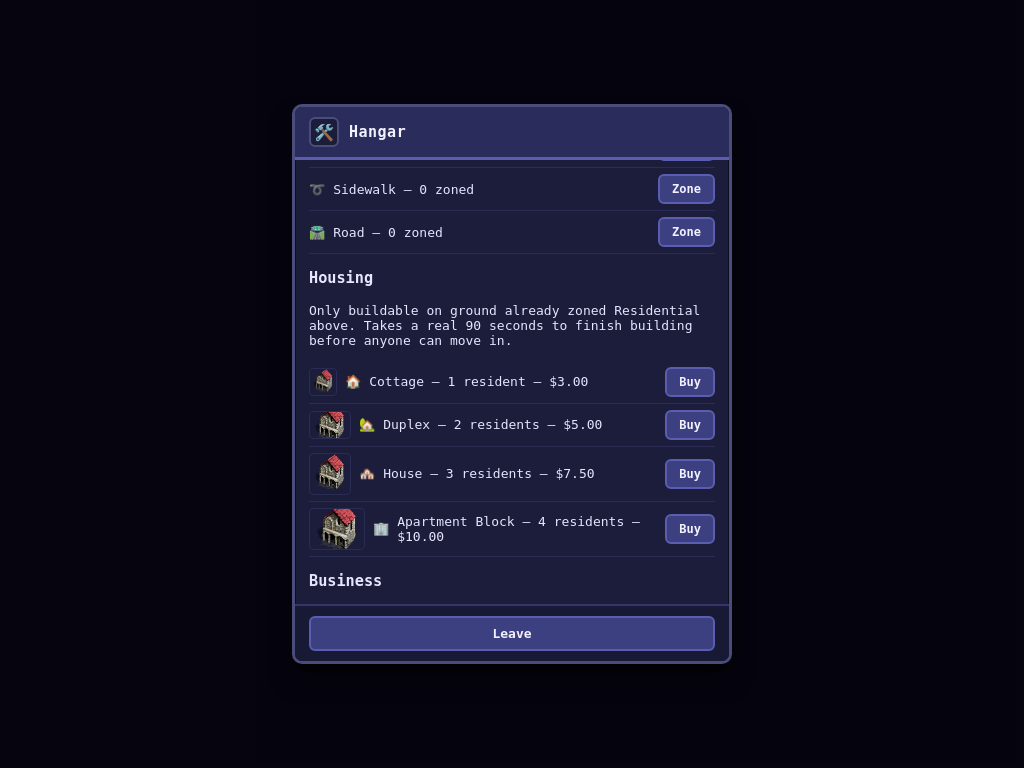
HangarOverlay › Housing (housing.md) › buying a second home type re-arms rather than queuing, refunding the first (2026-09-15 audit fix)
The width and height of the screenshot is (1024, 768).
(page scrolled)
What coordinates should you click on to do the following:
click the button "Buy" in the row of "Cottage"
I would click on:
 (690, 382)
Its box is 665,367 -> 715,397.
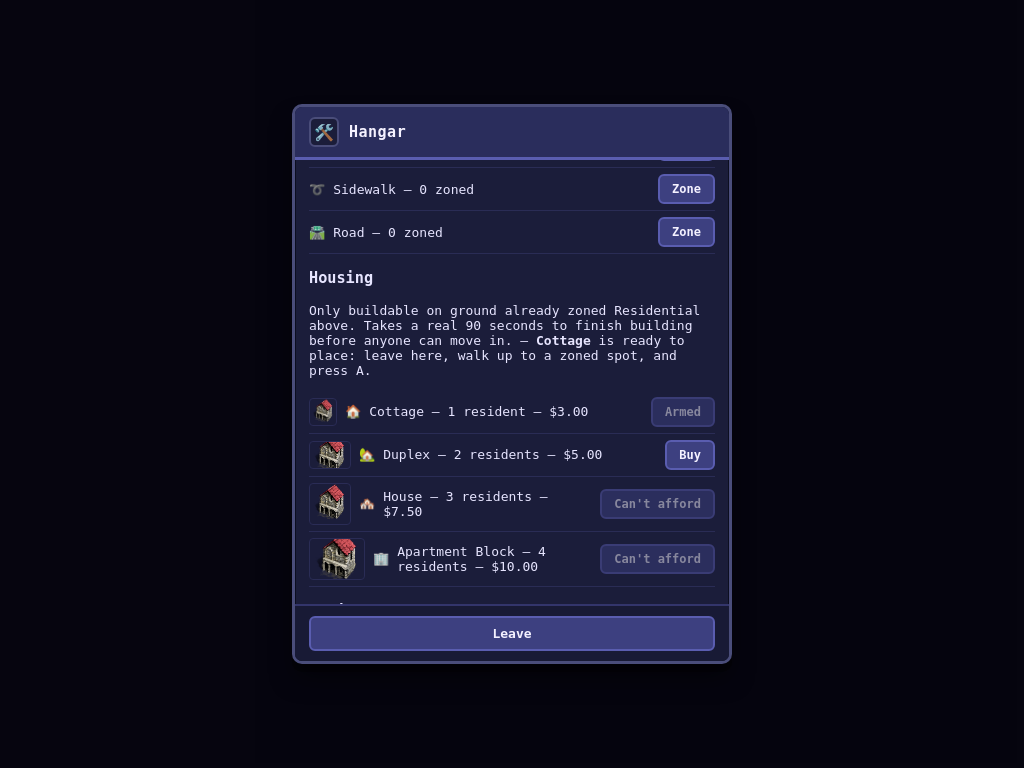
What coordinates should you click on to do the following:
click the button "Buy"
I would click on:
 (690, 455)
Its box is 665,440 -> 715,470.
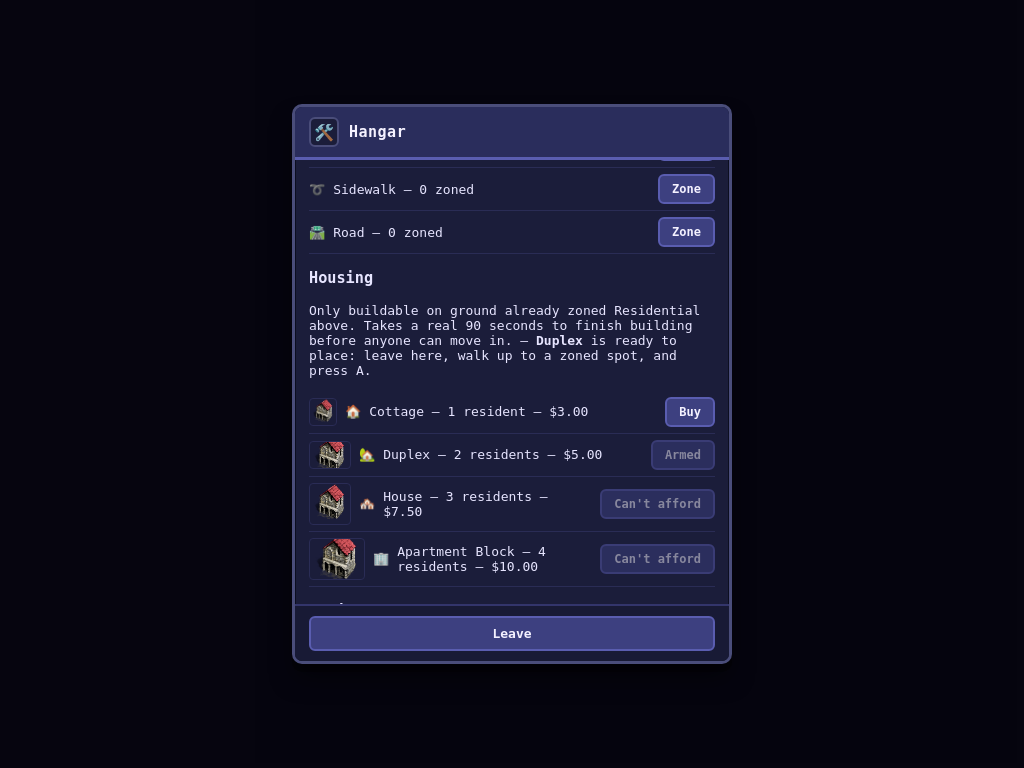
Result: the text "Duplex" is shown at 536,333 -> 583,348
Result: the button "Buy" is shown at 665,397 -> 715,427
